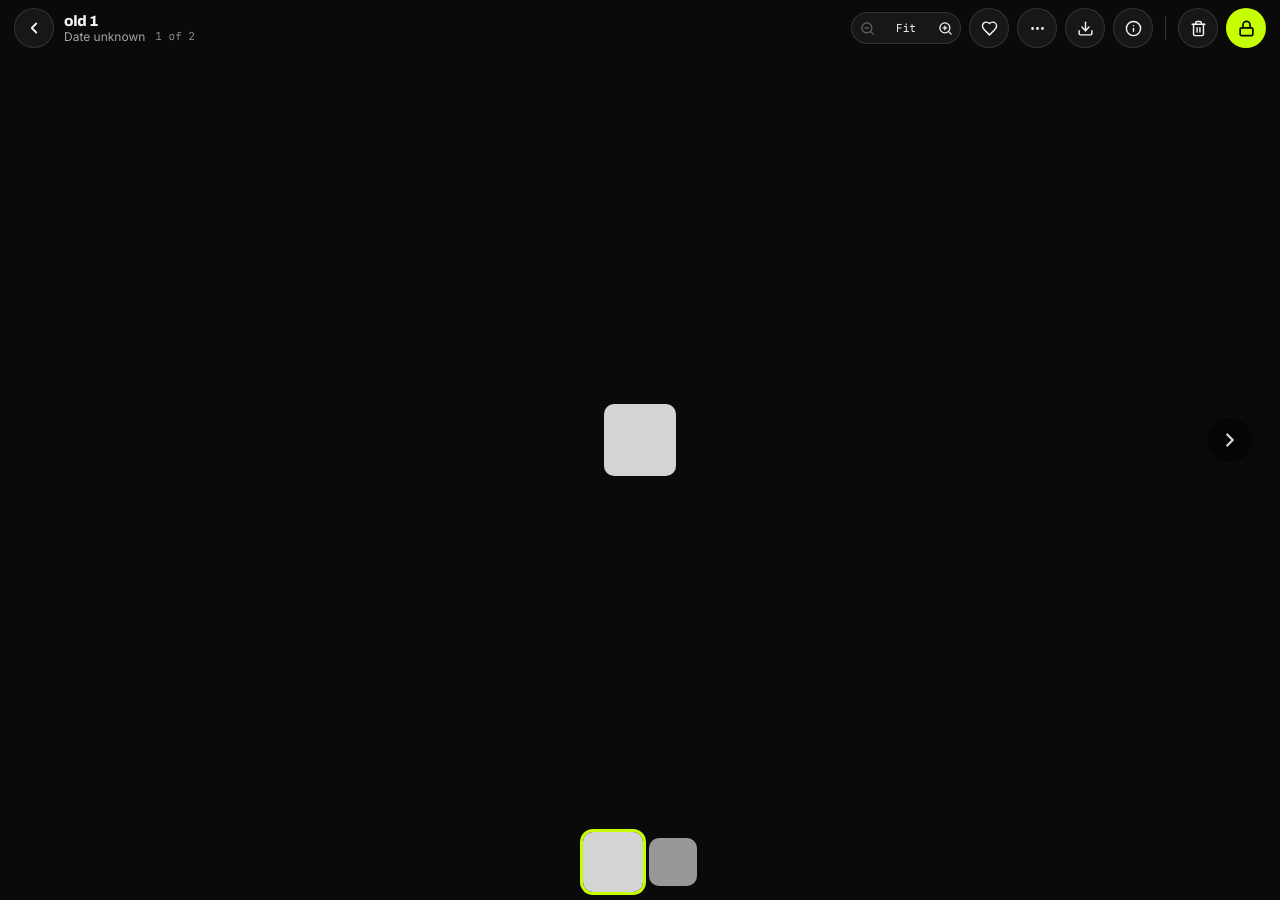
Test: Old photos in the viewer › offers Fix faded colours for a faded colour photo
Click the button named "More" at (1037, 28), box x1=1017 y1=8 x2=1057 y2=48
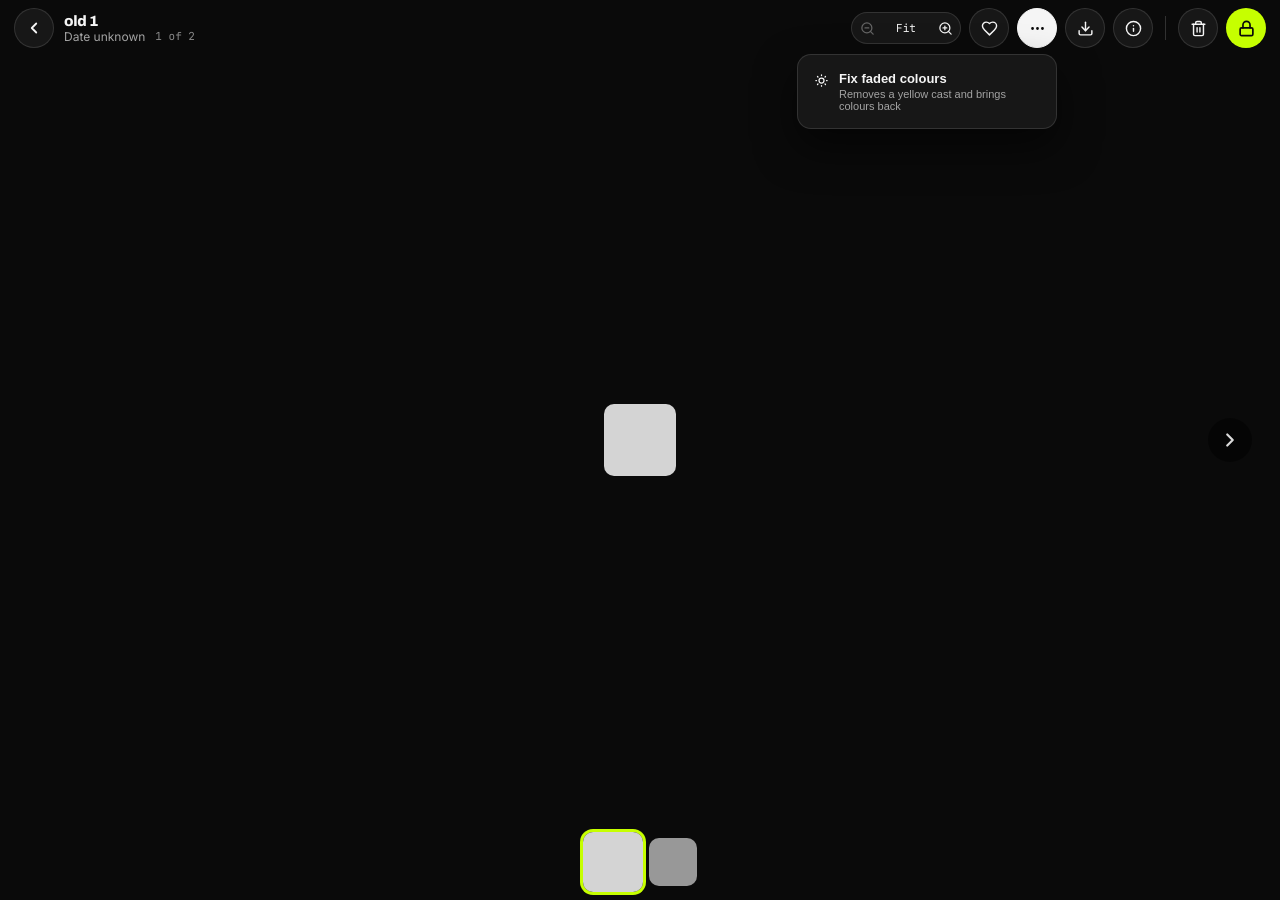
Expected: the menu item "Fix faded colours" is shown, x1=804 y1=61 x2=1050 y2=122
